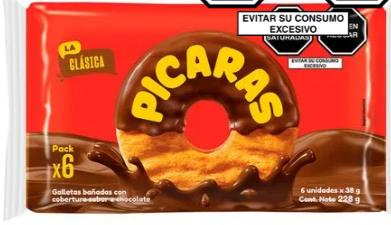brand: (126, 38, 289, 127)
net_weight: (337, 195, 362, 204)
